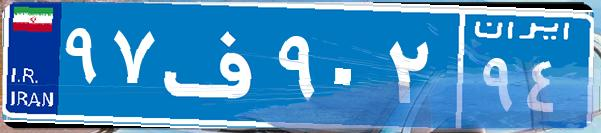0: (330, 28, 385, 110)
2: (385, 28, 445, 110)
4: (525, 38, 570, 115)
7: (110, 28, 158, 105)
9: (273, 28, 330, 110), (57, 26, 110, 107), (475, 38, 525, 113)
ف: (158, 15, 273, 115)
